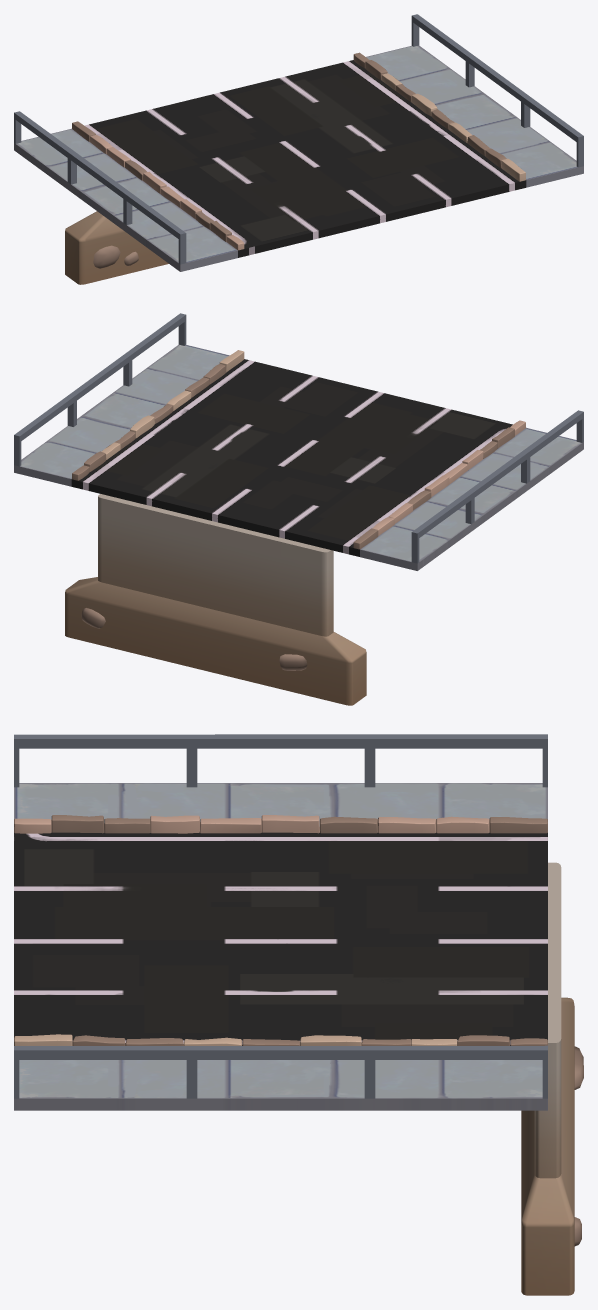
The model's file is bridgeroad.fbx.
3 views of the same model, one above another, from view 1: azimuth 30°, elevation 25°; view 2: azimuth 150°, elevation 25°; view 3: azimuth 270°, elevation 25° (orthographic). The views are drawn at different scales.
Visible parts, largest first — view 1: CityRoad_bridgeSpanWide_mesh.002, CityRoad_bridgeSpanWide_mesh, CityRoad_bridgeSpanWide_mesh.001; view 2: CityRoad_bridgeSpanWide_mesh.001, CityRoad_bridgeSpanWide_mesh.002, CityRoad_bridgeSpanWide_mesh; view 3: CityRoad_bridgeSpanWide_mesh.002, CityRoad_bridgeSpanWide_mesh.001, CityRoad_bridgeSpanWide_mesh.
Boxes of the visible parts, left/top/right/bottom form: CityRoad_bridgeSpanWide_mesh.002: left=85, top=60, right=526, bottom=257; CityRoad_bridgeSpanWide_mesh: left=14, top=45, right=583, bottom=271; CityRoad_bridgeSpanWide_mesh.001: left=14, top=14, right=583, bottom=284; CityRoad_bridgeSpanWide_mesh.001: left=14, top=313, right=583, bottom=705; CityRoad_bridgeSpanWide_mesh.002: left=71, top=359, right=512, bottom=556; CityRoad_bridgeSpanWide_mesh: left=14, top=344, right=583, bottom=570; CityRoad_bridgeSpanWide_mesh.002: left=14, top=832, right=547, bottom=1045; CityRoad_bridgeSpanWide_mesh.001: left=14, top=734, right=583, bottom=1295; CityRoad_bridgeSpanWide_mesh: left=14, top=783, right=547, bottom=1110.
Size of the model in its own units: 1400 by 600 by 1068.
